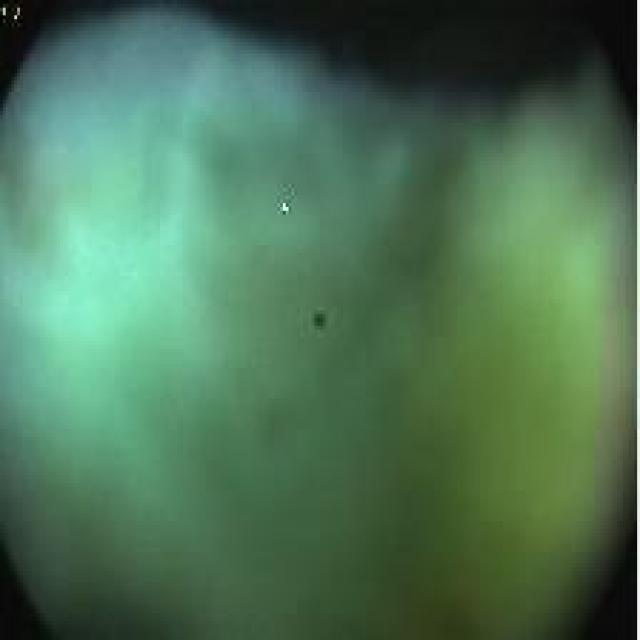blur: (2, 1, 636, 640)
color misalignment: (1, 3, 22, 30), (308, 310, 327, 334)
